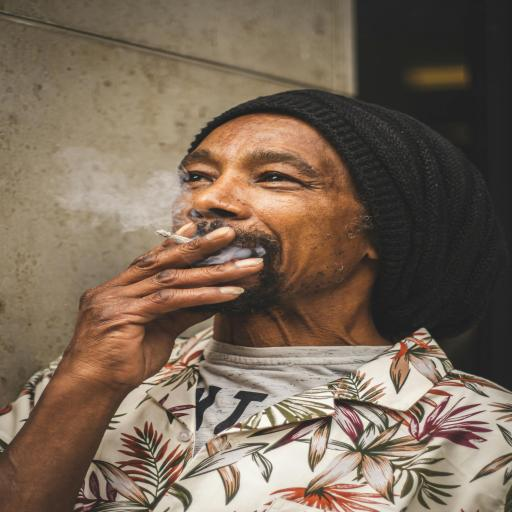terdeteksi merokok: (122, 118, 310, 308)
